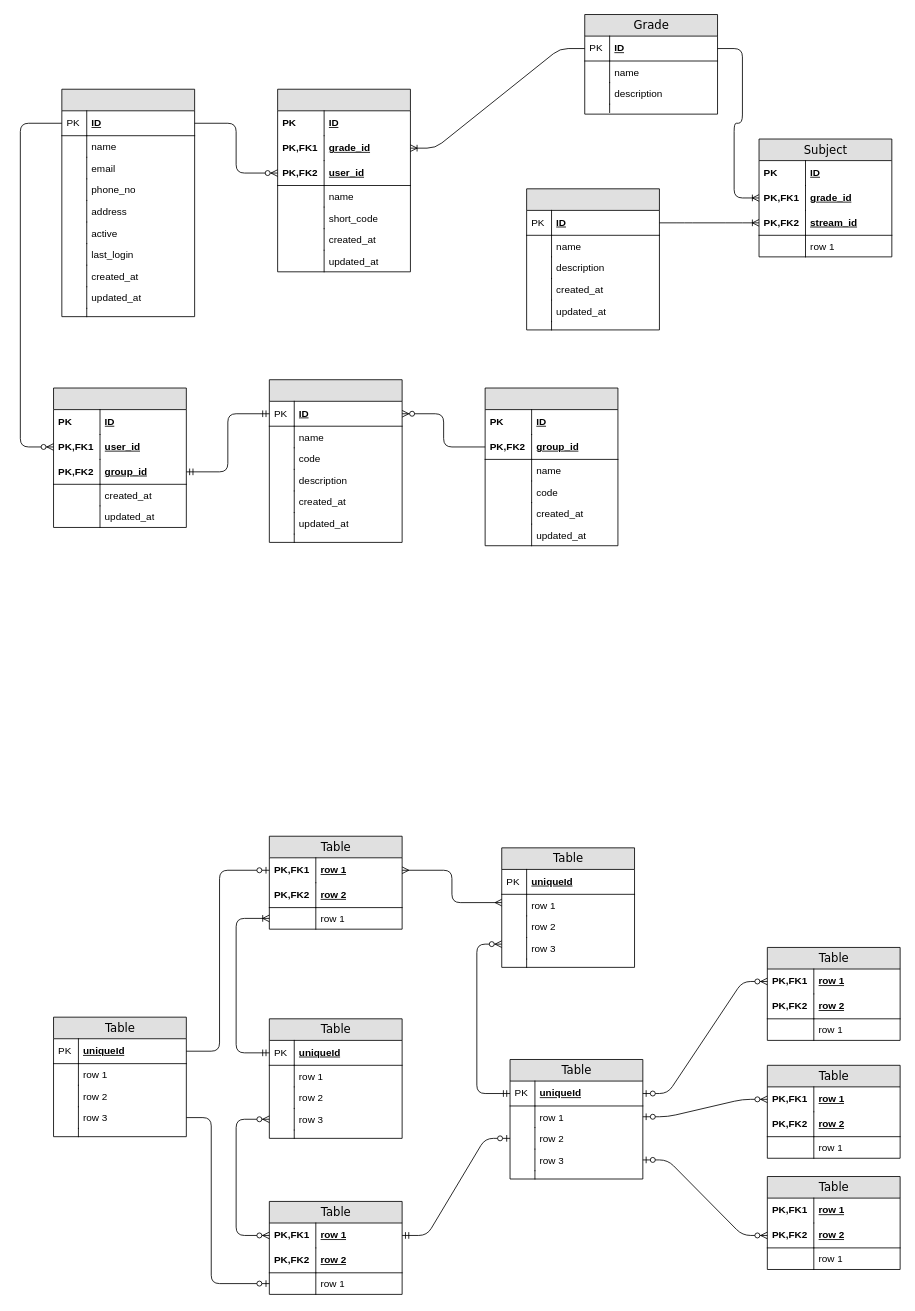
This 915x1311 diagram has some shape labels left out. Each missing label, with the box of its shape:
Group: (269, 379, 402, 542)
Permission: (484, 387, 618, 546)
Profile: (277, 88, 410, 272)
Stream: (526, 188, 659, 330)
User: (61, 88, 195, 317)
User Group: (53, 387, 186, 527)
